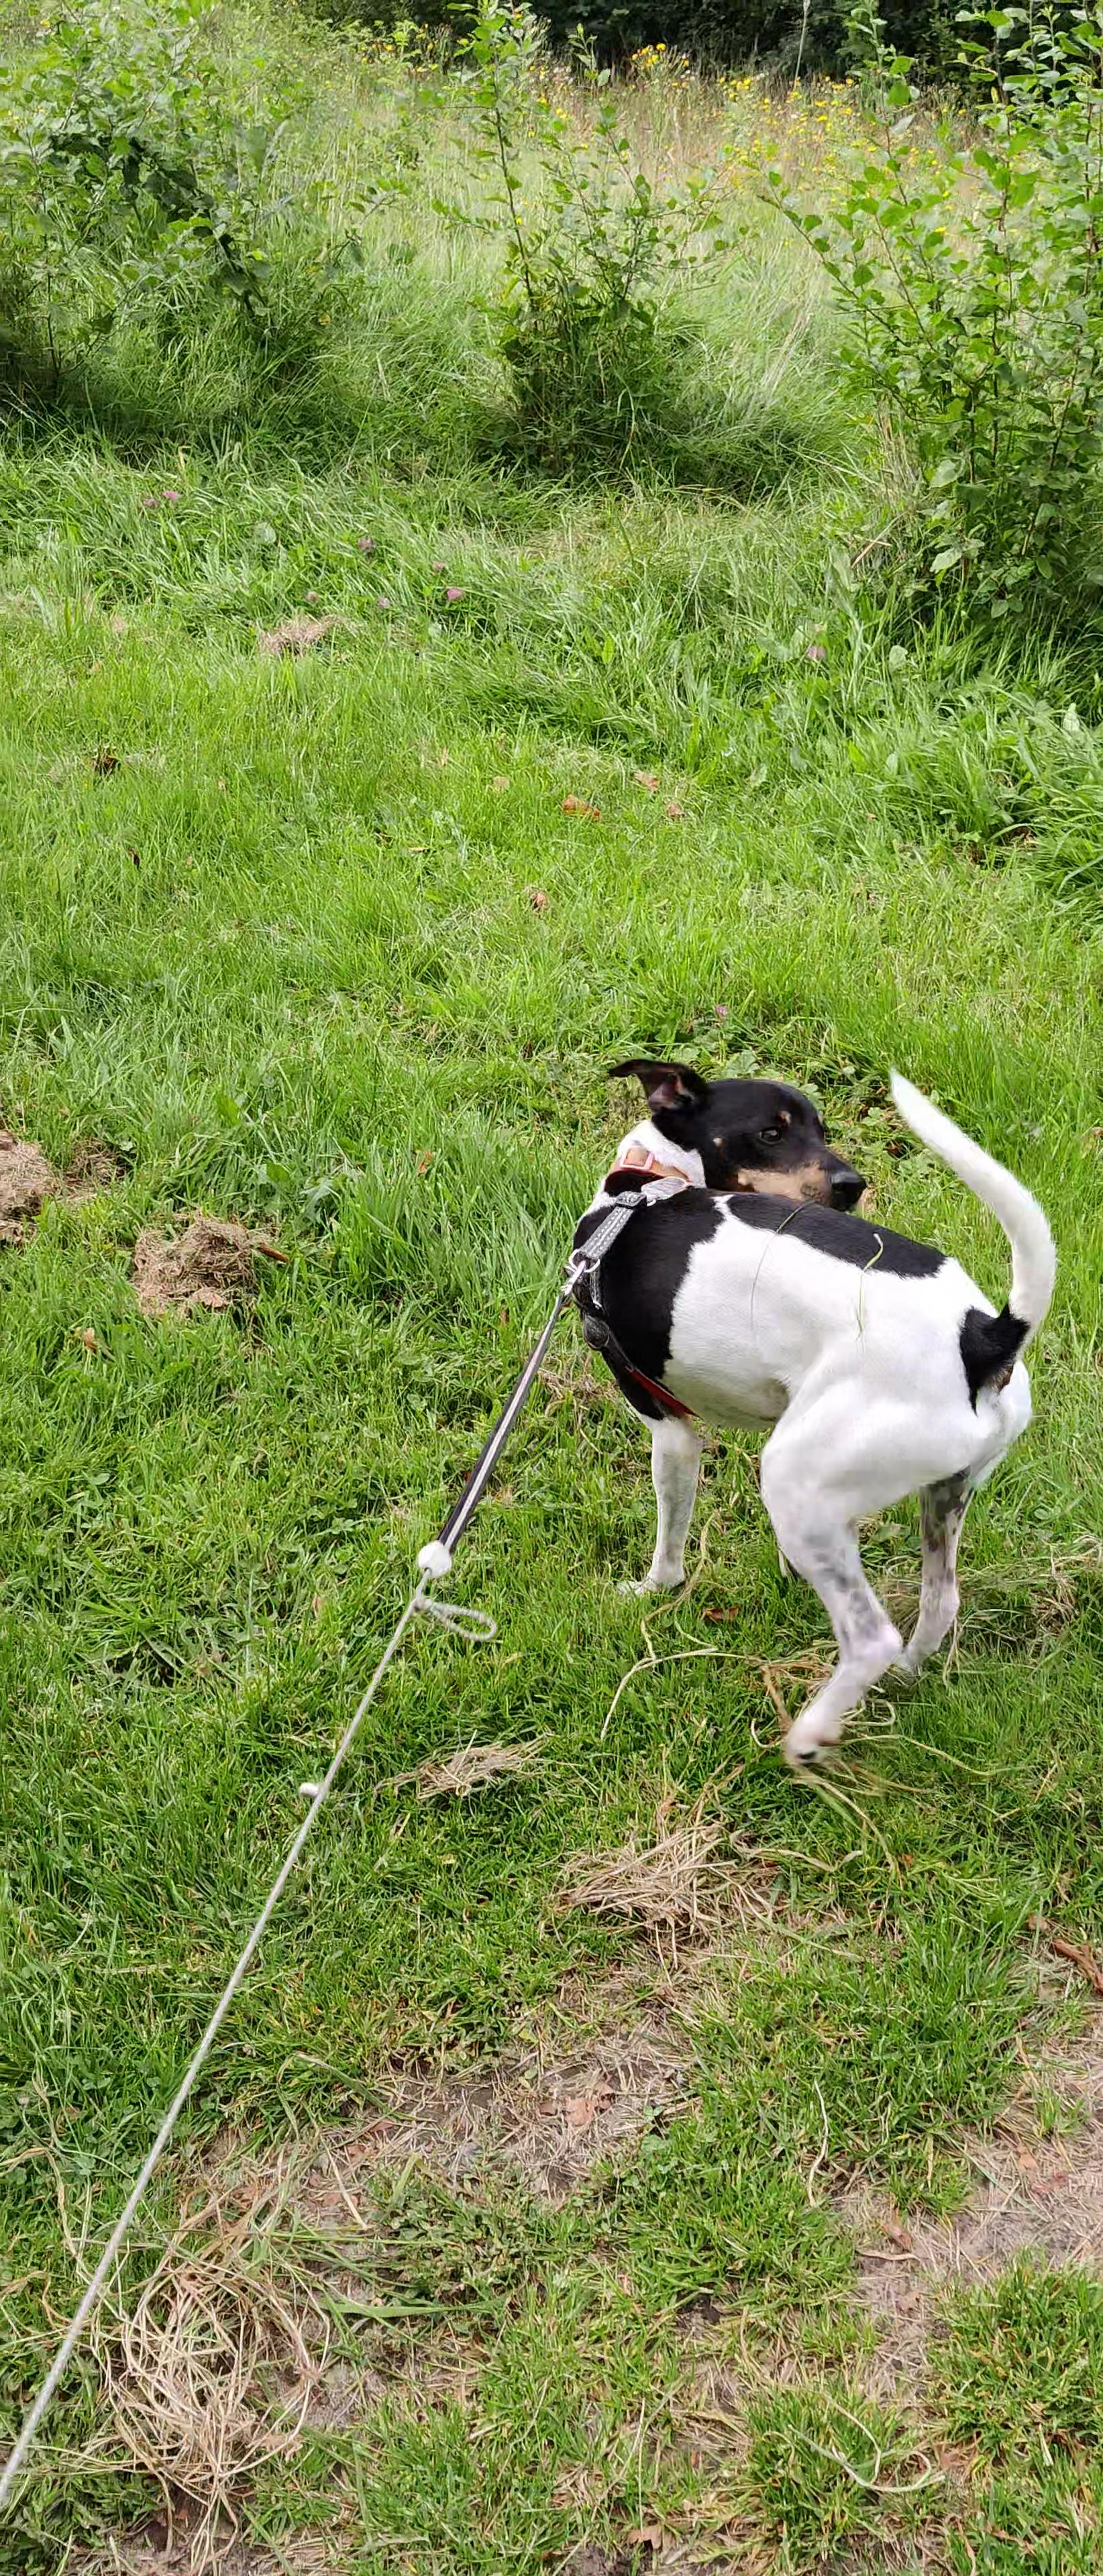Dog: (541, 1030, 1064, 1784)
